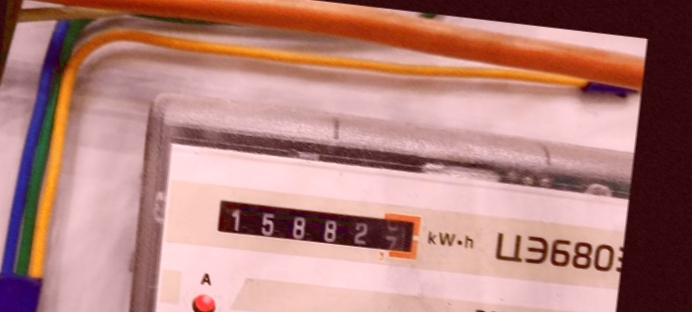1: (230, 206, 245, 233)
2: (353, 220, 372, 247)
5: (260, 210, 277, 238)
7: (384, 232, 401, 251)
8: (291, 214, 310, 240), (323, 217, 341, 244)
screen: (207, 187, 431, 269)
